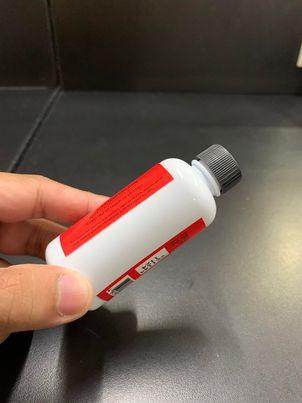-Bottle-: (46, 144, 244, 311)
